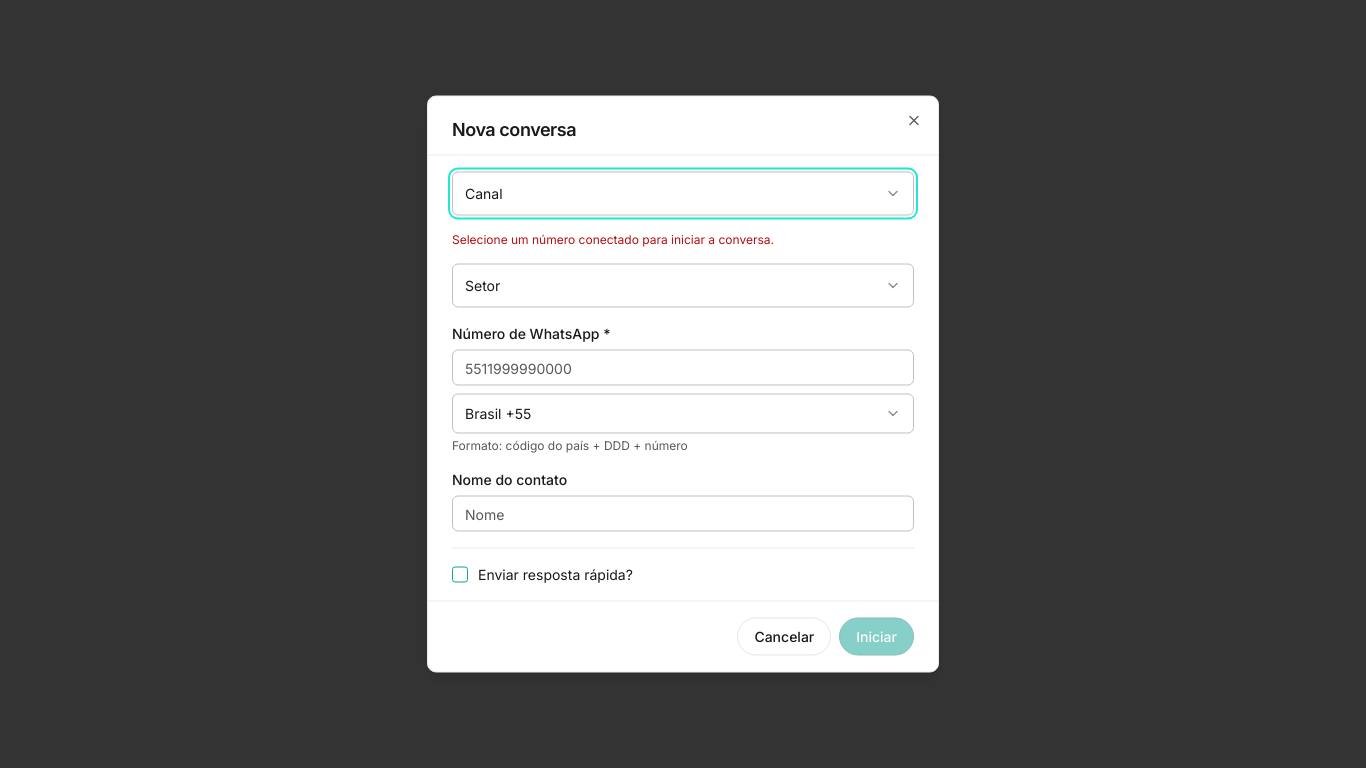
Test: NewConversationDialog sender selection › starts unselected, hides unhealthy senders, and requires a connected sender before submit
Expected: the message shows "Selecione um número conectado", [452, 232, 774, 246]
Expected: the button with test id "button-confirm-new-conversation" is disabled, [839, 618, 914, 656]
Click the dropdown with test id "select-new-conv-channel" at x=484, y=193, box [452, 172, 914, 216]
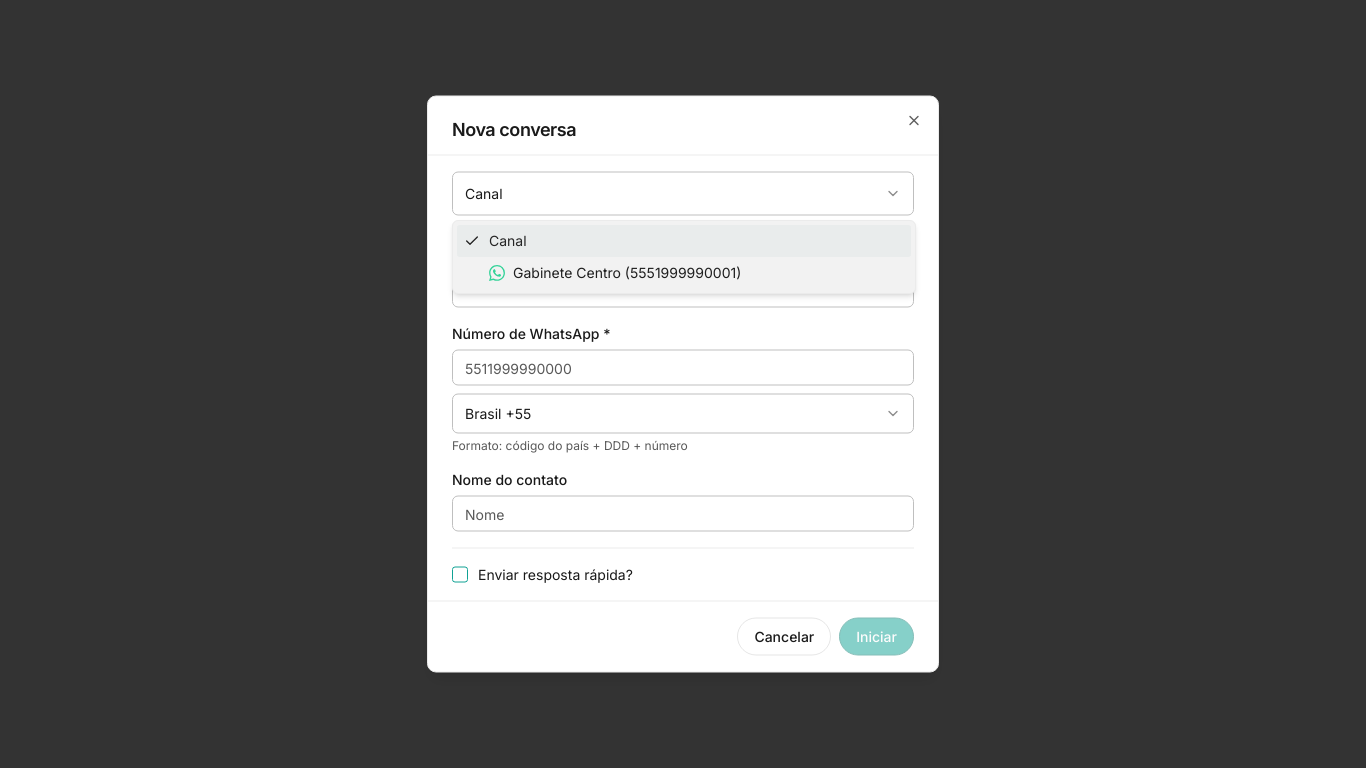
Now the option "Gabinete Centro (5551999990001)" is shown, box [489, 264, 741, 281]
